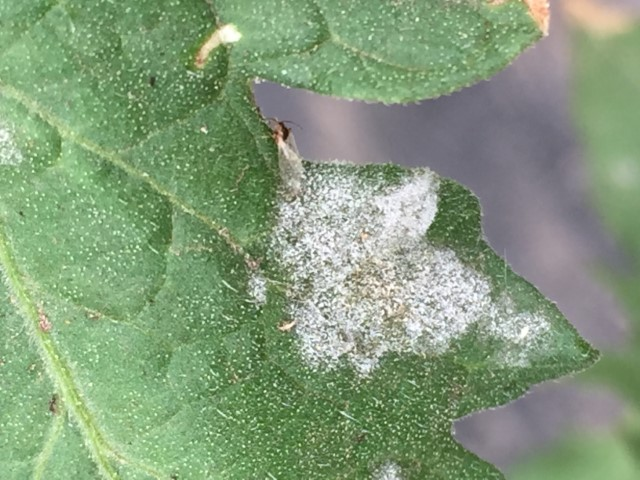oidio: (244, 164, 489, 383), (490, 291, 554, 370), (1, 128, 24, 167), (367, 461, 403, 480)
